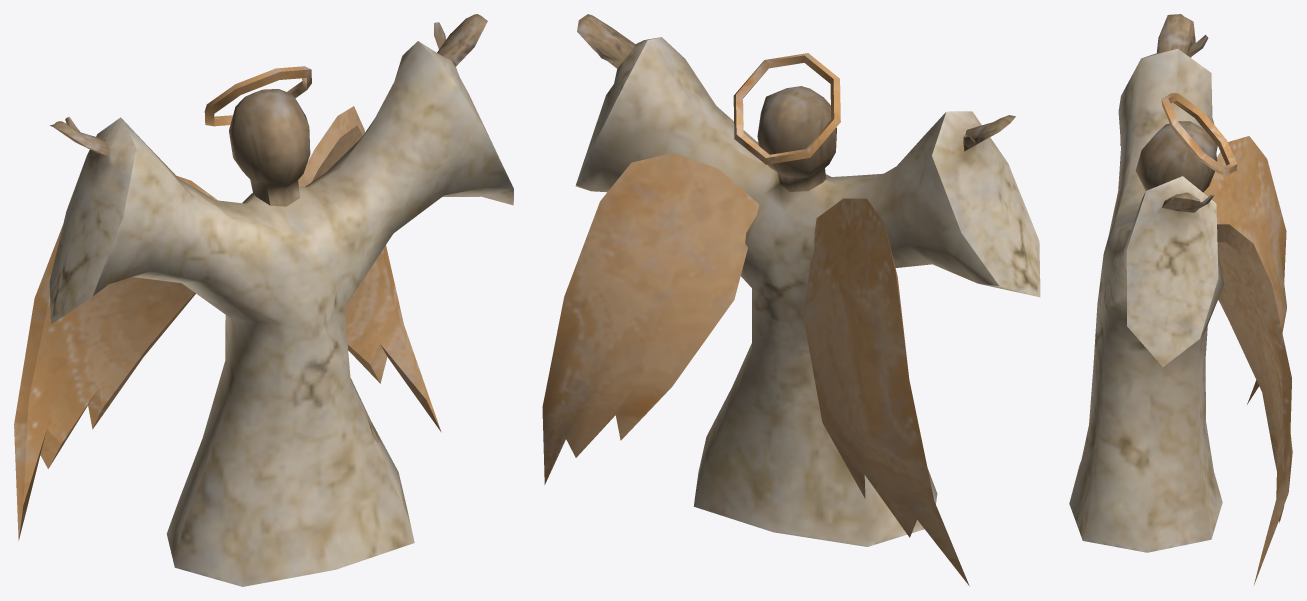
The model's file is Statue_Angel_Exalted.fbx.
3 renders of one model, left to right at view 1: azimuth 30°, elevation 25°; view 2: azimuth 150°, elevation 25°; view 3: azimuth 270°, elevation 25°, orthographic. The views are drawn at different scales.
Parts seen in each view (by area): view 1: Angel_Exalted; view 2: Angel_Exalted; view 3: Angel_Exalted.
Boxes of the visible parts, x1,y1,x2,y2 form: Angel_Exalted: (14,14,513,586); Angel_Exalted: (542,14,1040,585); Angel_Exalted: (1069,14,1292,584).
Bounding box in the file's own units: 105 × 98.59 × 49.4.
